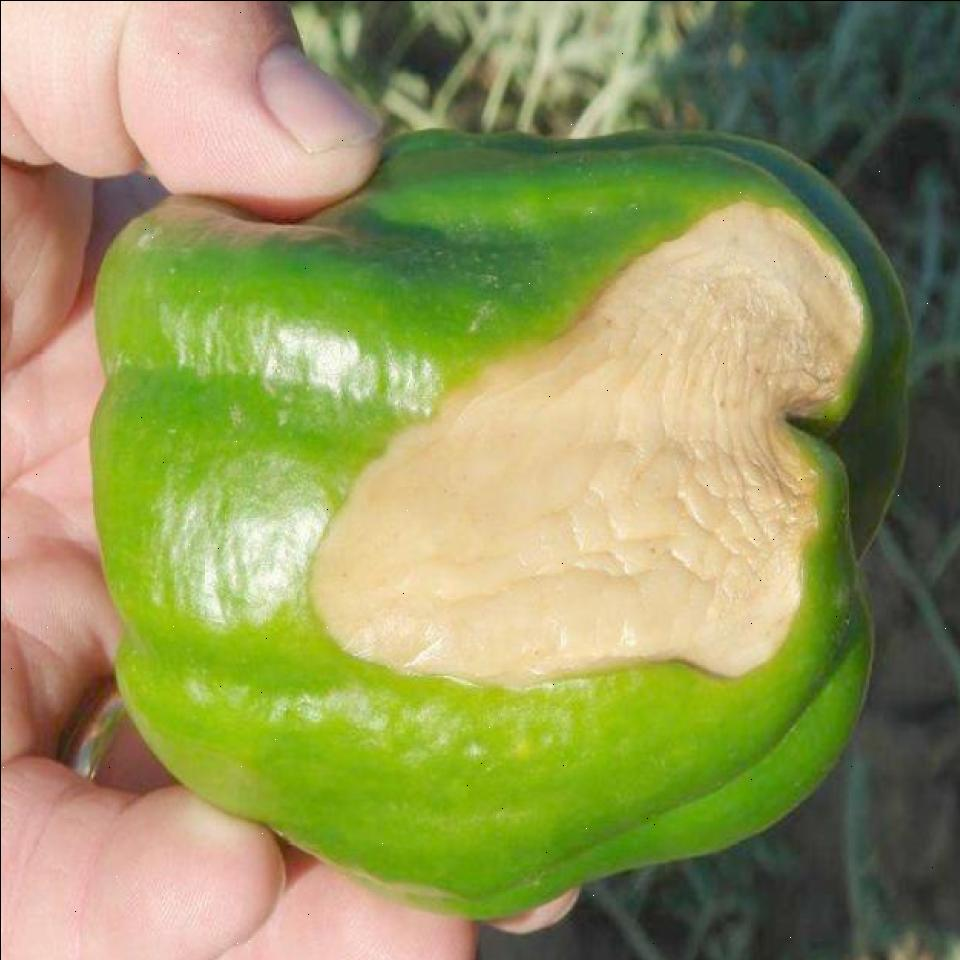Sunscald: (302, 191, 852, 767)
